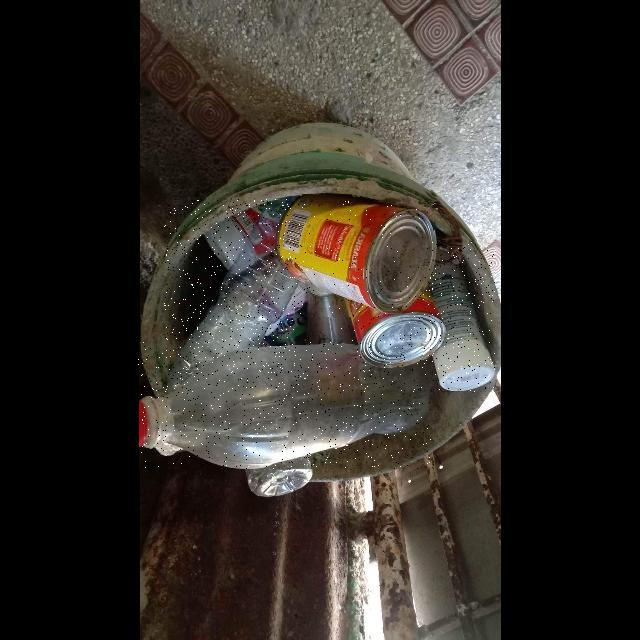metal: (277, 201, 434, 316), (341, 286, 445, 369)
plastic: (139, 342, 431, 468), (164, 199, 295, 390), (424, 241, 495, 391)
